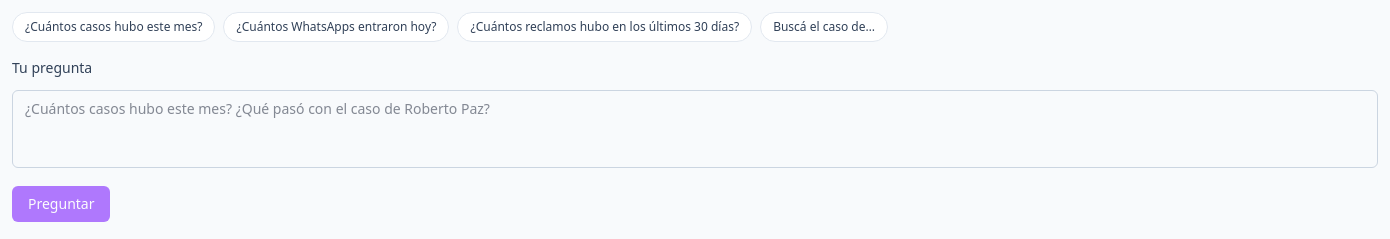
it: CajaDelAsistente › el chip de buscar caso llena el textarea y no envía
Click the button "Buscá el caso de…" at (824, 27), box [760, 12, 888, 42]
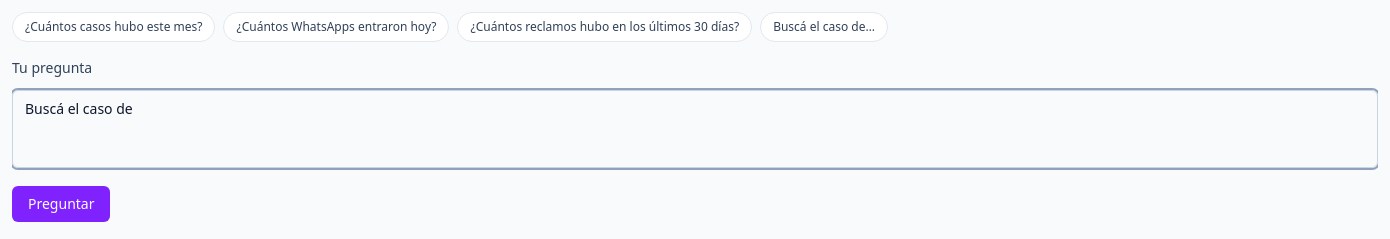
Expected: the text box labelled "Tu pregunta" holds "Buscá el caso de ", [12, 90, 1378, 168]
